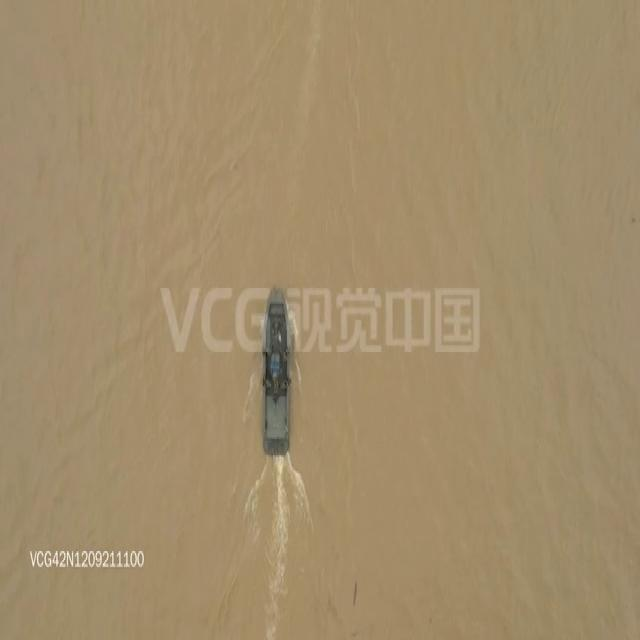houseboat: (261, 286, 293, 457)
